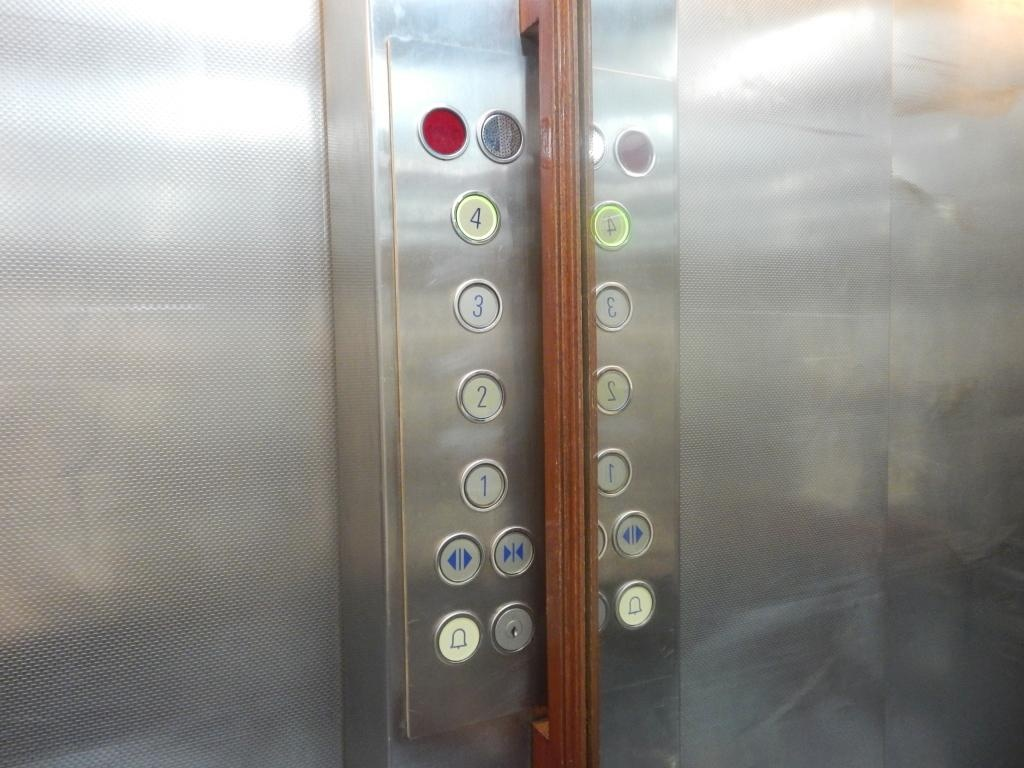1: (454, 455, 512, 512)
2: (452, 366, 510, 423)
3: (449, 276, 507, 333)
4: (447, 187, 505, 244)
alarm: (431, 608, 483, 664), (611, 575, 658, 628)
close: (488, 524, 540, 580)
empty: (415, 103, 473, 160), (607, 121, 665, 178)
keyhole: (486, 598, 538, 654)
open: (429, 528, 487, 585), (606, 506, 660, 561)
speaker: (472, 107, 530, 164)
unknown: (584, 442, 638, 497), (583, 362, 637, 417), (584, 275, 638, 330), (584, 198, 638, 253)
